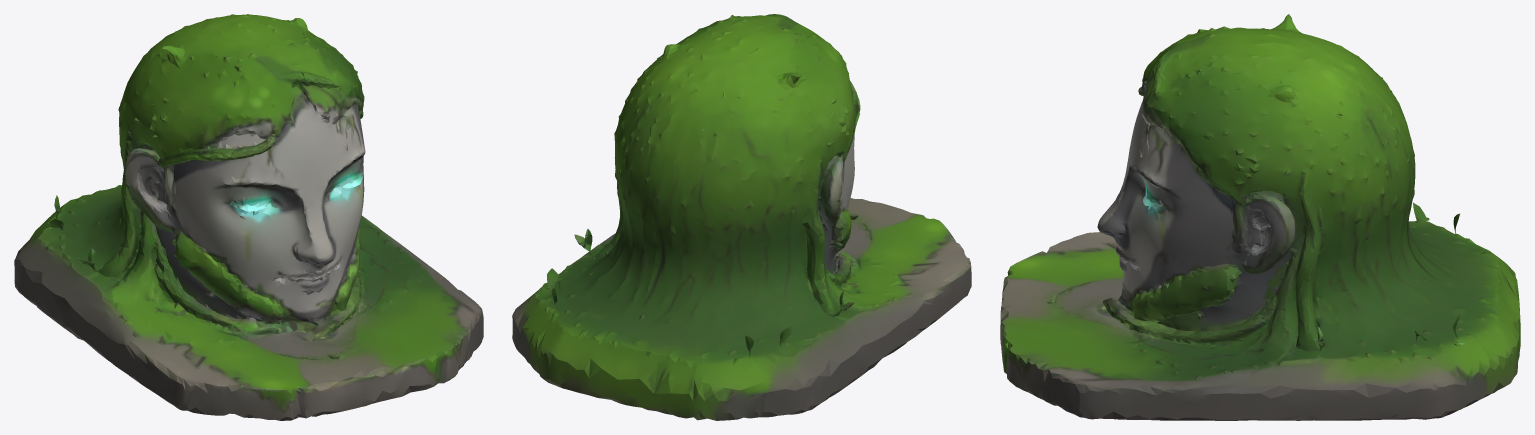
Rendered from Jungle_MossIdol.glb.
The picture shows the model from 3 angles, left to right: view 1: azimuth 30°, elevation 25°; view 2: azimuth 150°, elevation 25°; view 3: azimuth 270°, elevation 25°; orthographic projection. The views are drawn at different scales.
Parts seen in each view (by area): view 1: Jungle_MossIdol; view 2: Jungle_MossIdol; view 3: Jungle_MossIdol.
Part boxes in pixels (box(x1,y1,x2,y2)): Jungle_MossIdol: box(14, 14, 483, 420); Jungle_MossIdol: box(512, 14, 971, 420); Jungle_MossIdol: box(1000, 14, 1520, 420).
Size of the model in its own units: 1.37 by 1.2 by 1.89.
Materials: 1 (1 with a texture image).
